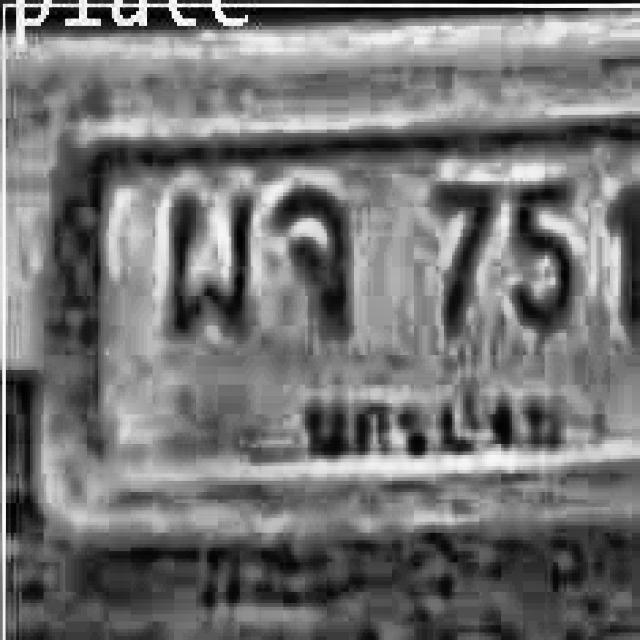license-plate: (37, 104, 640, 544)
